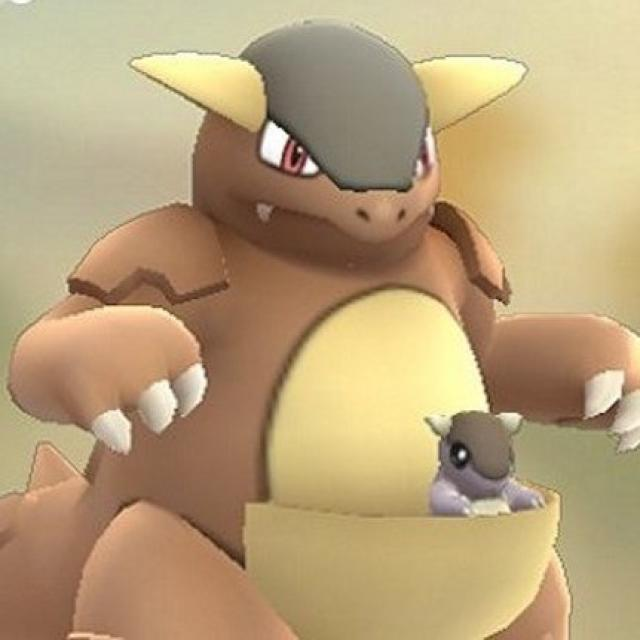Kangaskhan: (27, 26, 570, 640)
